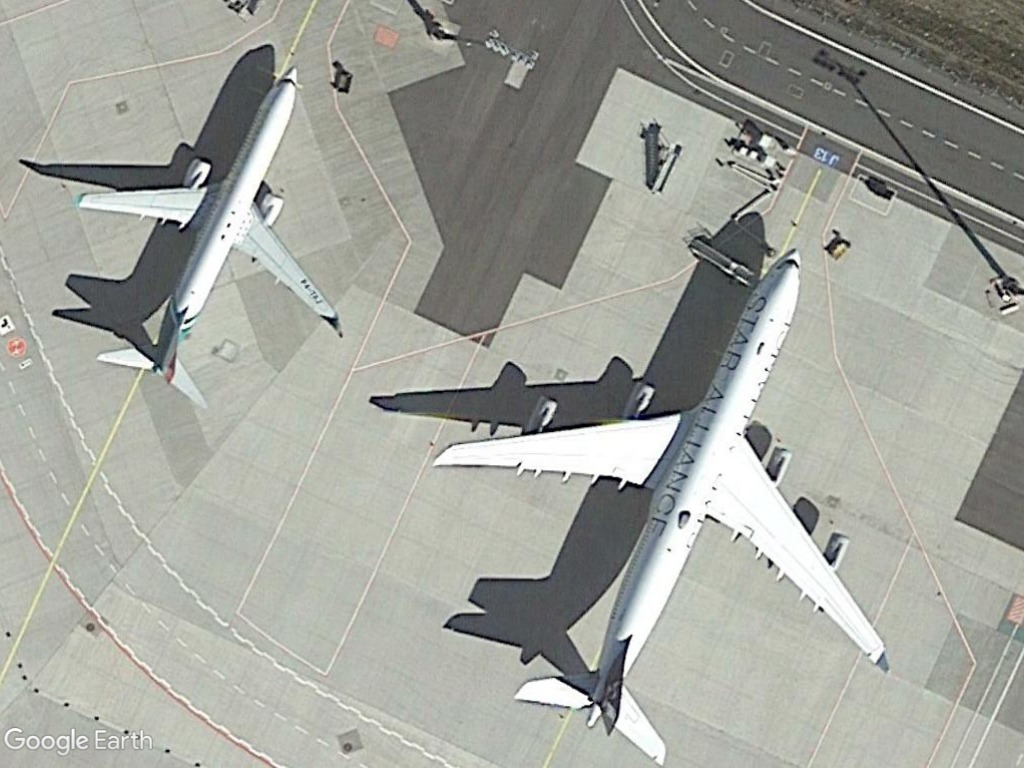airliner: (414, 243, 907, 768), (67, 59, 347, 406)
stairtruck: (641, 135, 682, 197)
